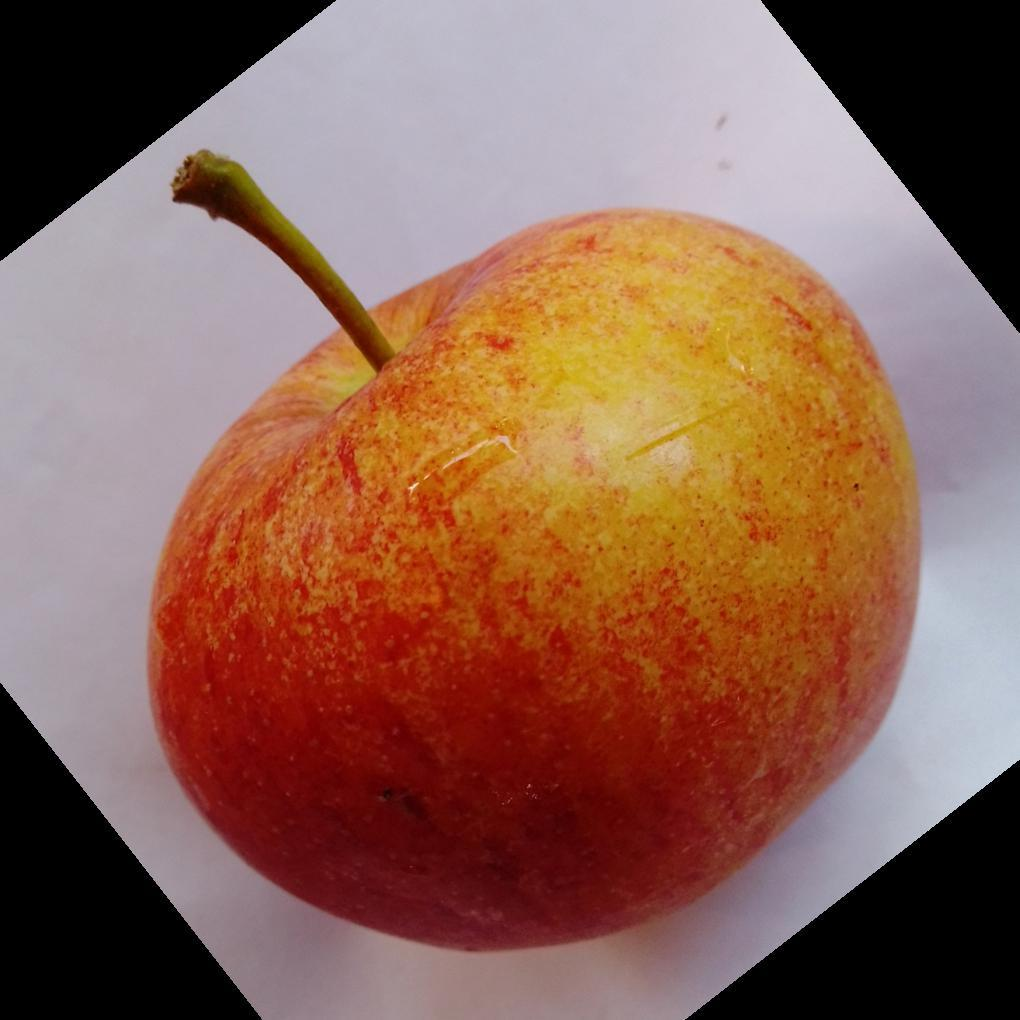FreshGuava: (144, 208, 922, 959)
